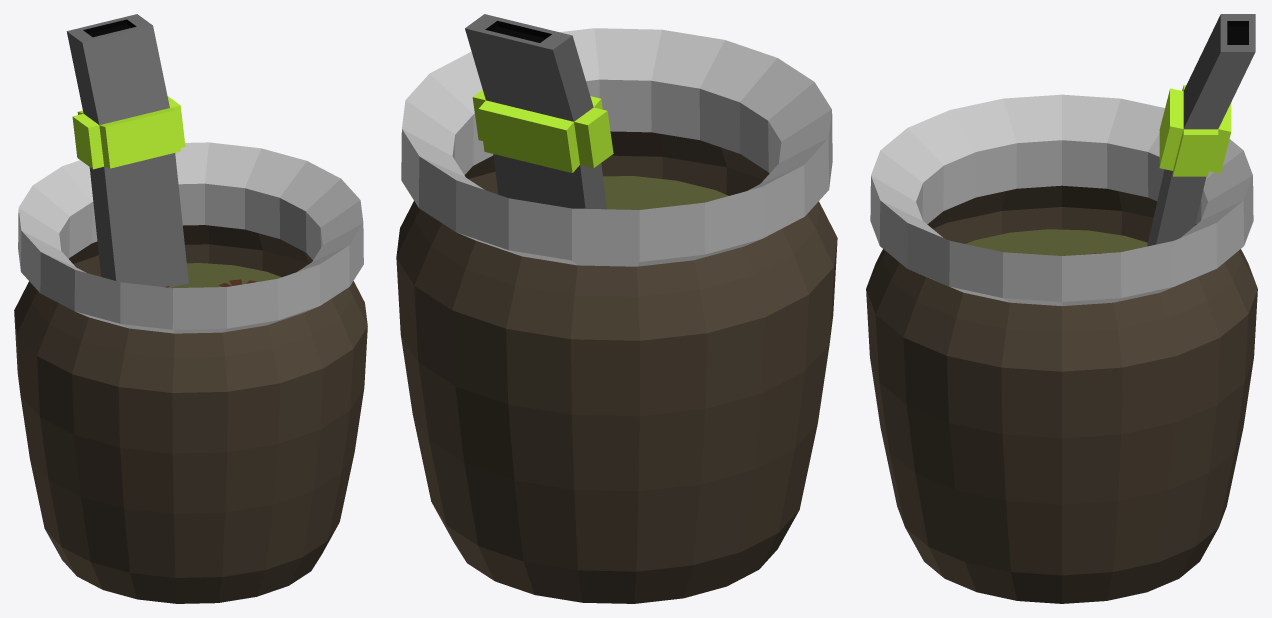
Rendered from mate.glb.
The picture shows the model from 3 angles, left to right: view 1: azimuth 30°, elevation 25°; view 2: azimuth 150°, elevation 25°; view 3: azimuth 270°, elevation 25°; orthographic projection. The views are drawn at different scales.
Visible parts, largest first — view 1: mate; view 2: mate; view 3: mate.
Part boxes in pixels (x1,y1,x2,y2): mate: (14, 14, 367, 603); mate: (396, 14, 837, 603); mate: (866, 14, 1257, 603).
Bounding box in the file's own units: 2.7 × 3.88 × 2.7.
